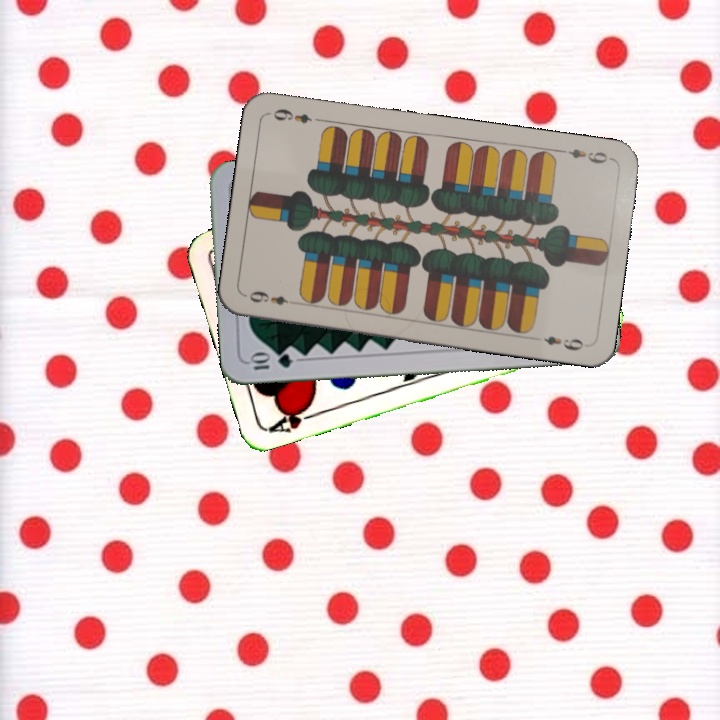E9: (555, 144, 614, 167), (245, 286, 291, 308)
G10: (245, 350, 295, 373)
HA: (265, 400, 323, 436)
